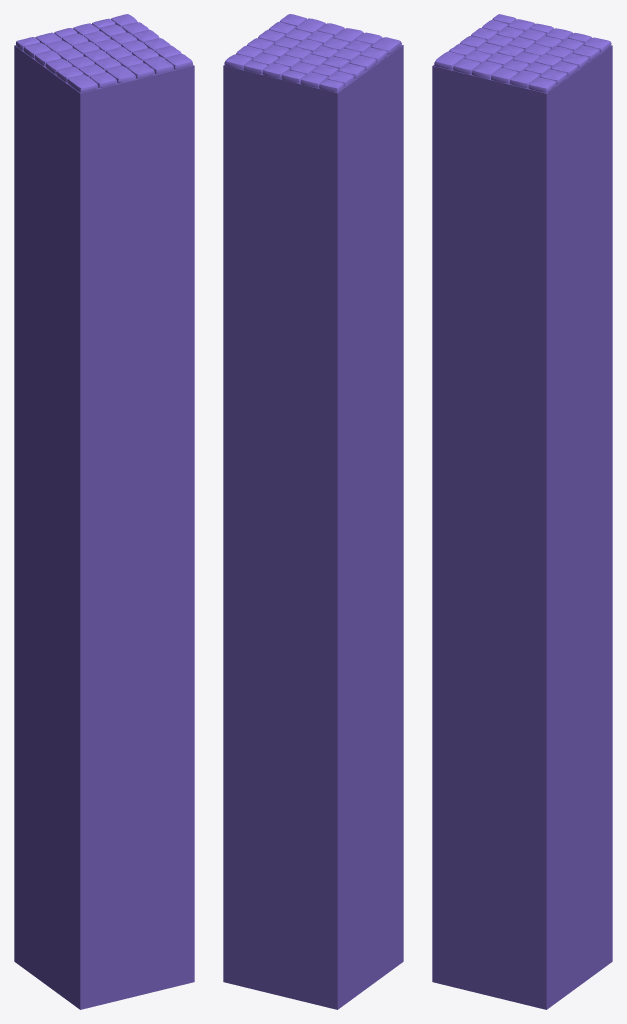
Rendered from Tiles.fbx.
The picture shows the model from 3 angles, left to right: view 1: azimuth 30°, elevation 25°; view 2: azimuth 150°, elevation 25°; view 3: azimuth 330°, elevation 25°; orthographic projection.
Parts seen in each view (by area): view 1: Cube.035; view 2: Cube.035; view 3: Cube.035.
Part boxes in pixels (<box>): Cube.035: <box>14,14,194,1009</box>; Cube.035: <box>223,14,403,1009</box>; Cube.035: <box>432,14,612,1009</box>.
Bounding box in the file's own units: 601 × 4627 × 600.
